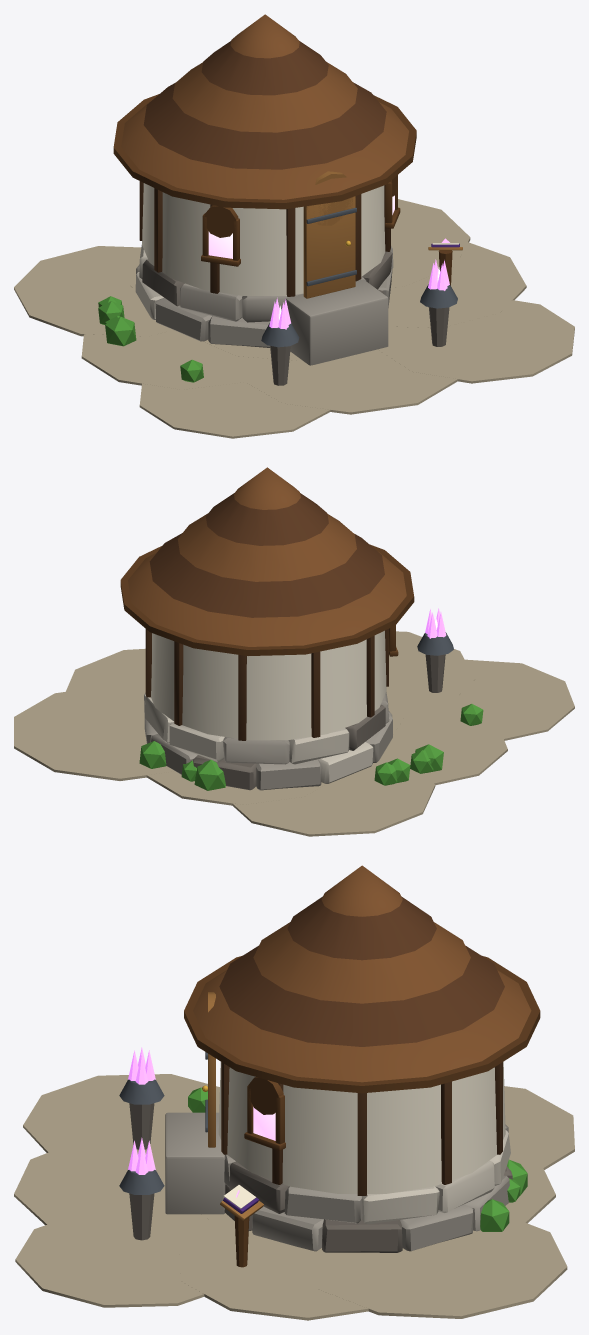
File: budynek_fuzji_poz06.glb
The picture shows the model from 3 angles, top to bottom: view 1: azimuth 30°, elevation 25°; view 2: azimuth 150°, elevation 25°; view 3: azimuth 270°, elevation 25°; orthographic projection. The views are drawn at different scales.
Visible parts, largest first — view 1: budynek_fuzji_poz06; view 2: budynek_fuzji_poz06; view 3: budynek_fuzji_poz06.
Part boxes in pixels (box(x1,y1,x2,y2)): budynek_fuzji_poz06: box(14, 14, 574, 438); budynek_fuzji_poz06: box(14, 467, 574, 836); budynek_fuzji_poz06: box(14, 865, 574, 1320).
Size of the model in its own units: 8.65 by 5.58 by 8.4.
